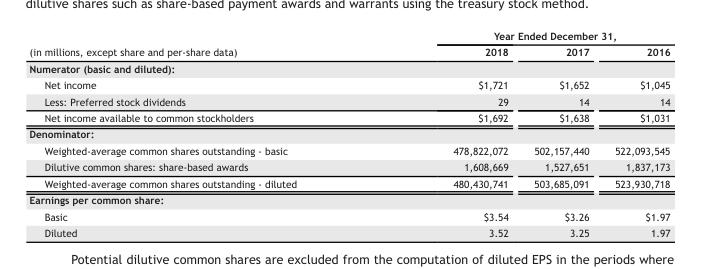table: (28, 29, 669, 238)
table column: (28, 29, 374, 238), (374, 29, 520, 238), (520, 29, 601, 238), (601, 29, 669, 238)
table column header: (28, 29, 669, 59)
table projected row header: (28, 59, 669, 76), (28, 125, 669, 142), (28, 191, 669, 207)
table row: (28, 59, 669, 76), (28, 92, 669, 109), (28, 125, 669, 142), (28, 174, 669, 191), (28, 207, 669, 224), (28, 43, 669, 59), (28, 76, 669, 92), (28, 109, 669, 125), (28, 142, 669, 158), (28, 158, 669, 174), (28, 191, 669, 207), (28, 29, 669, 43), (28, 224, 669, 238)
table spanning cell: (28, 29, 374, 59), (374, 29, 669, 43)
